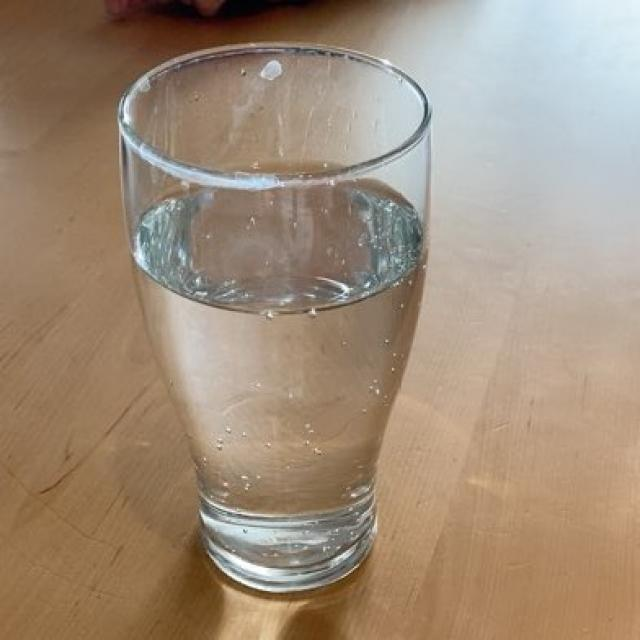water: (144, 233, 412, 538)
